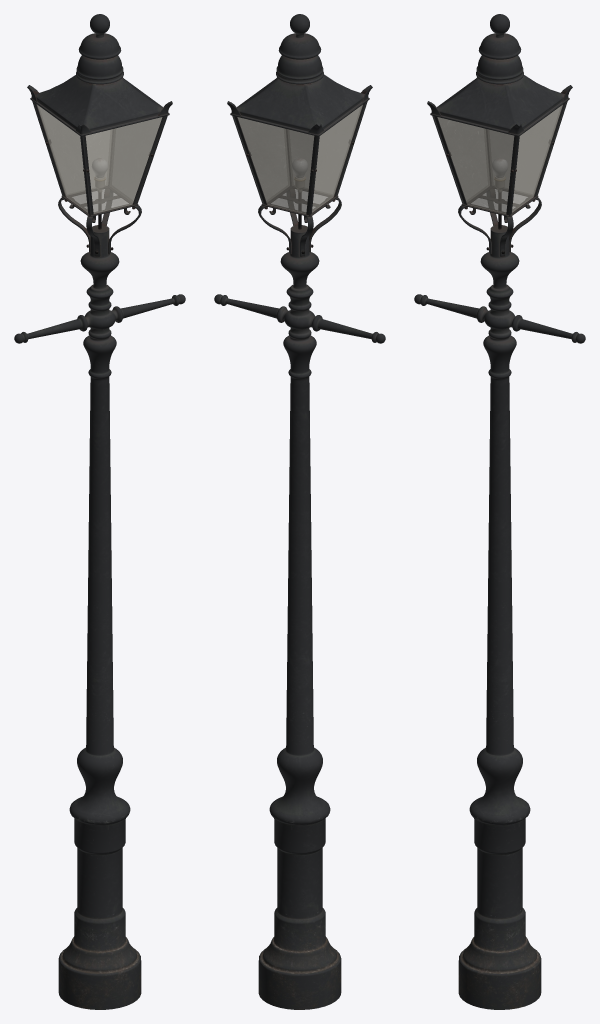
The model's file is Sokak Lambasì.glb.
The picture shows the model from 3 angles, left to right: view 1: azimuth 30°, elevation 25°; view 2: azimuth 150°, elevation 25°; view 3: azimuth 330°, elevation 25°; orthographic projection.
Visible parts, largest first — view 1: Gövde; view 2: Gövde; view 3: Gövde.
Boxes of the visible parts, <box> form: Gövde: <box>14,14,185,1009</box>; Gövde: <box>214,14,385,1009</box>; Gövde: <box>414,14,585,1009</box>.
Size of the model in its own units: 0.7043 by 3.87 by 0.3865.
3 materials, 3 textured.
